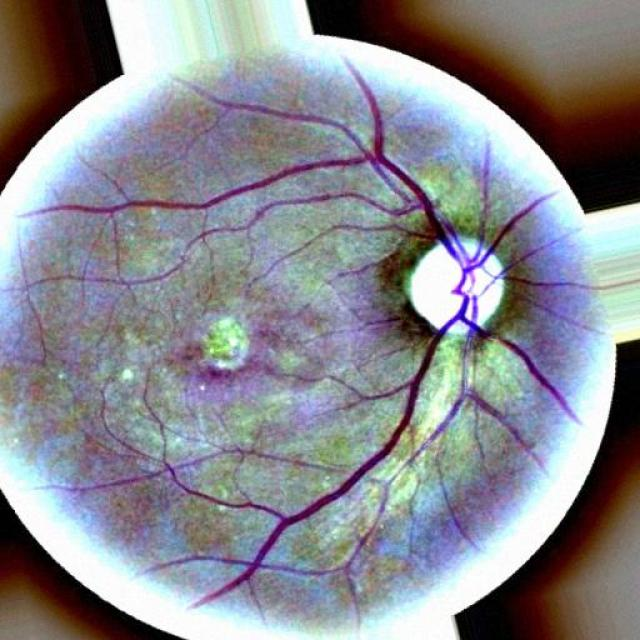Nerves: (54, 72, 458, 260), (220, 316, 445, 593), (406, 286, 555, 464)
Optic Disk: (401, 237, 524, 345)
